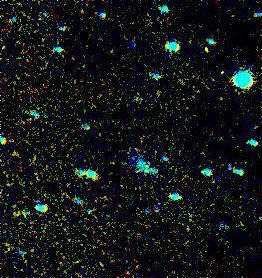star: (191, 36, 221, 66)
